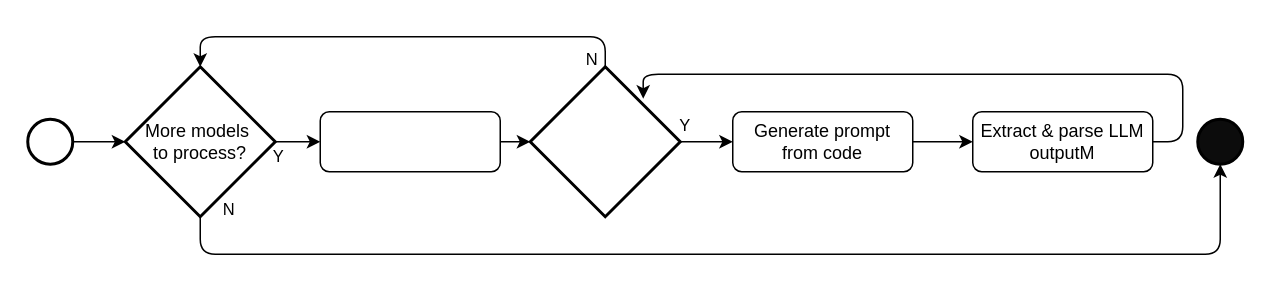
Some shapes in this 1269 by 293 pixel diagram are drawn without their labels. The shapes that lost their labels are listed below. From the top down, each one's box as (x1, y1, x2, y2) in pixels, then its label:
(319, 110, 500, 172): Load Model
(528, 64, 681, 218): More Java files to analyze?
